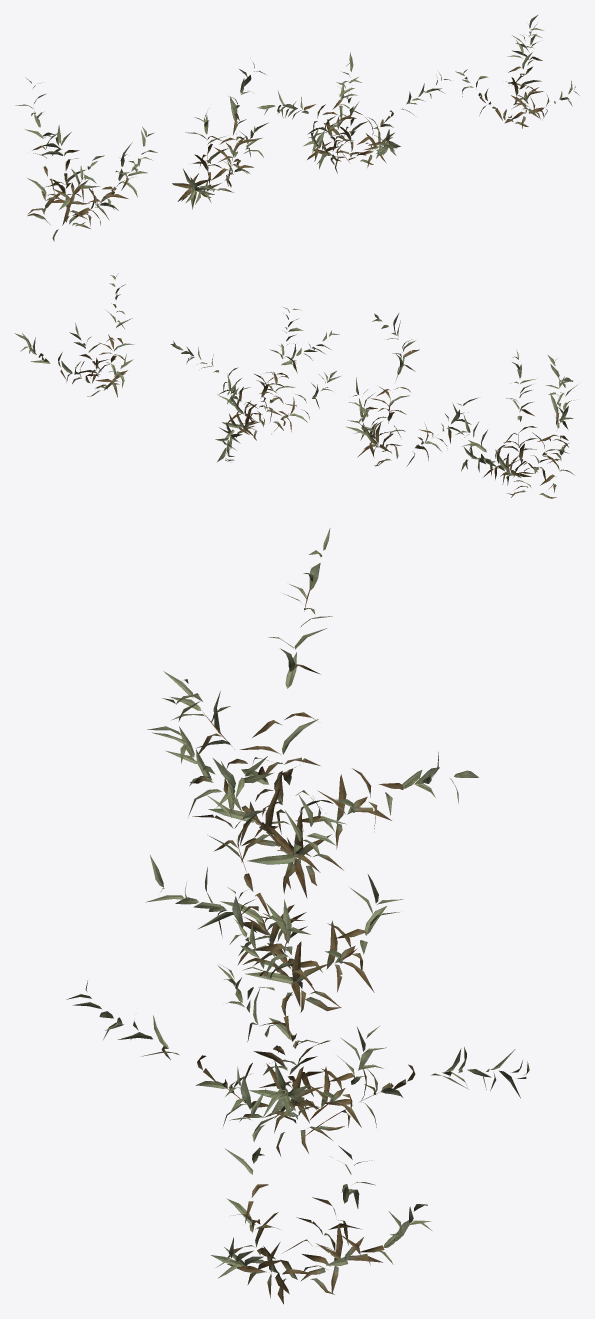
Rendered from shrub_02.glb.
The picture shows the model from 3 angles, top to bottom: view 1: azimuth 30°, elevation 25°; view 2: azimuth 150°, elevation 25°; view 3: azimuth 270°, elevation 25°; orthographic projection. The views are drawn at different scales.
Parts seen in each view (by area): view 1: shrub_02_a; view 2: shrub_02_a; view 3: shrub_02_a.
Boxes of the visible parts, x1=… form: shrub_02_a: x1=15, y1=15, x2=579, y2=241; shrub_02_a: x1=15, y1=273, x2=576, y2=498; shrub_02_a: x1=66, y1=528, x2=529, y2=1304.
Bounding box in the file's own units: 6.05 × 1.7 × 2.28.
Materials: 1 (1 with a texture image).
